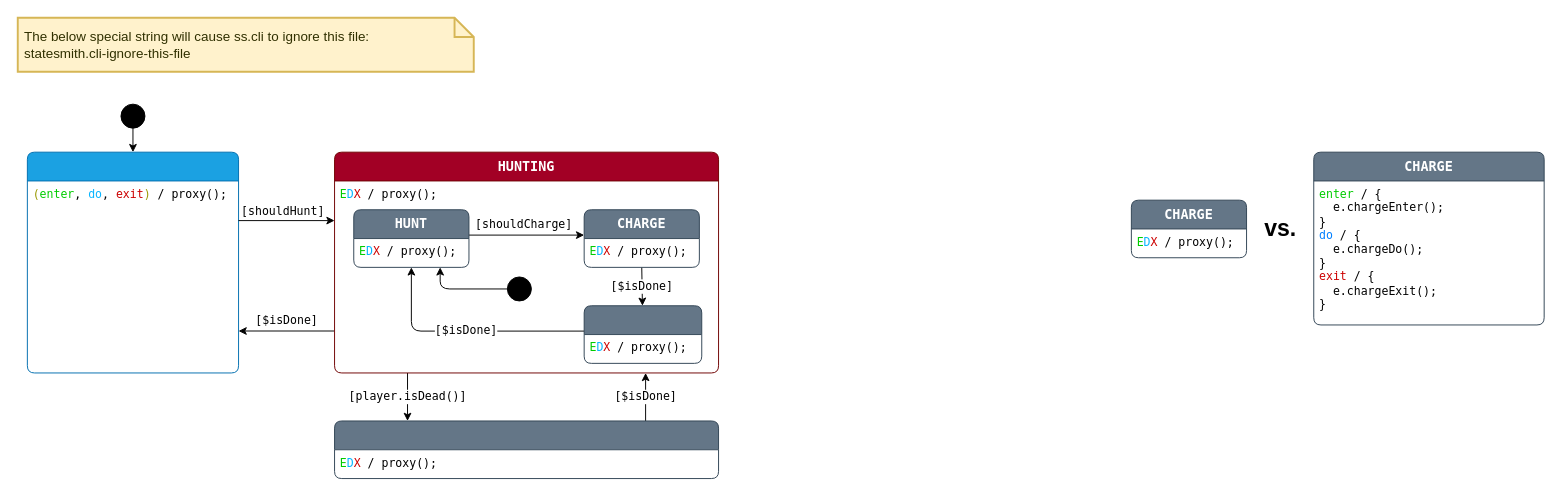
Image size: 1561x495. Some labels were removed from this diagram. The box of each missing label's shape, as (x1, y1, x2, y2) in pixels:
CHARGE_REST: (583, 305, 702, 363)
ENEMY_WIN: (334, 420, 719, 479)
SLEEPING: (26, 151, 239, 373)
